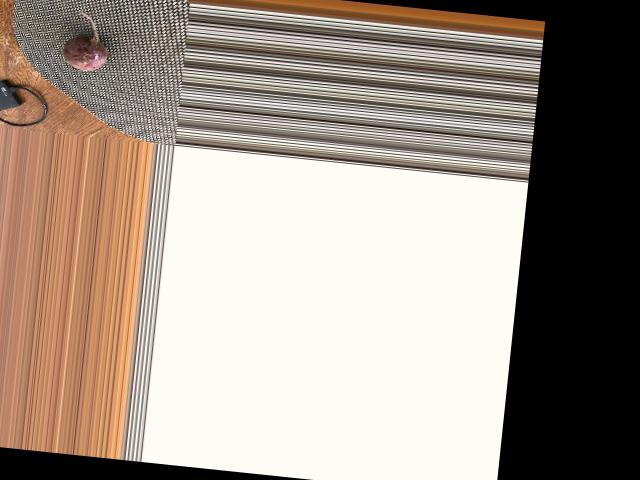beet: (61, 9, 111, 71)
